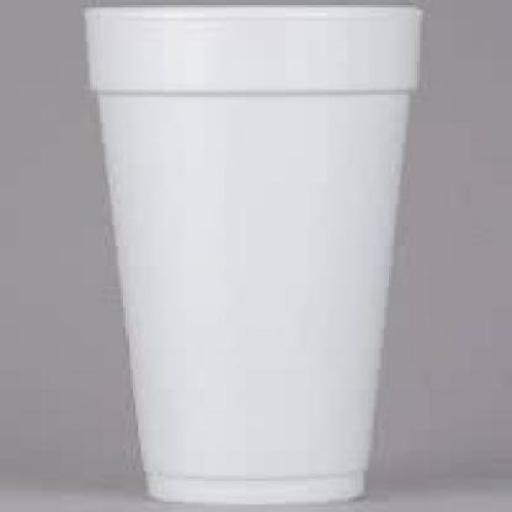paper: (82, 5, 420, 505)
